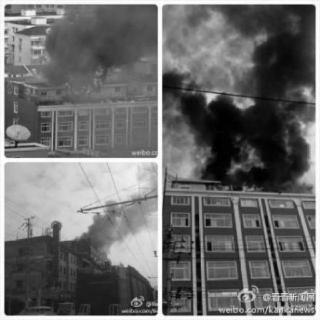Smoke: (70, 174, 152, 244)
